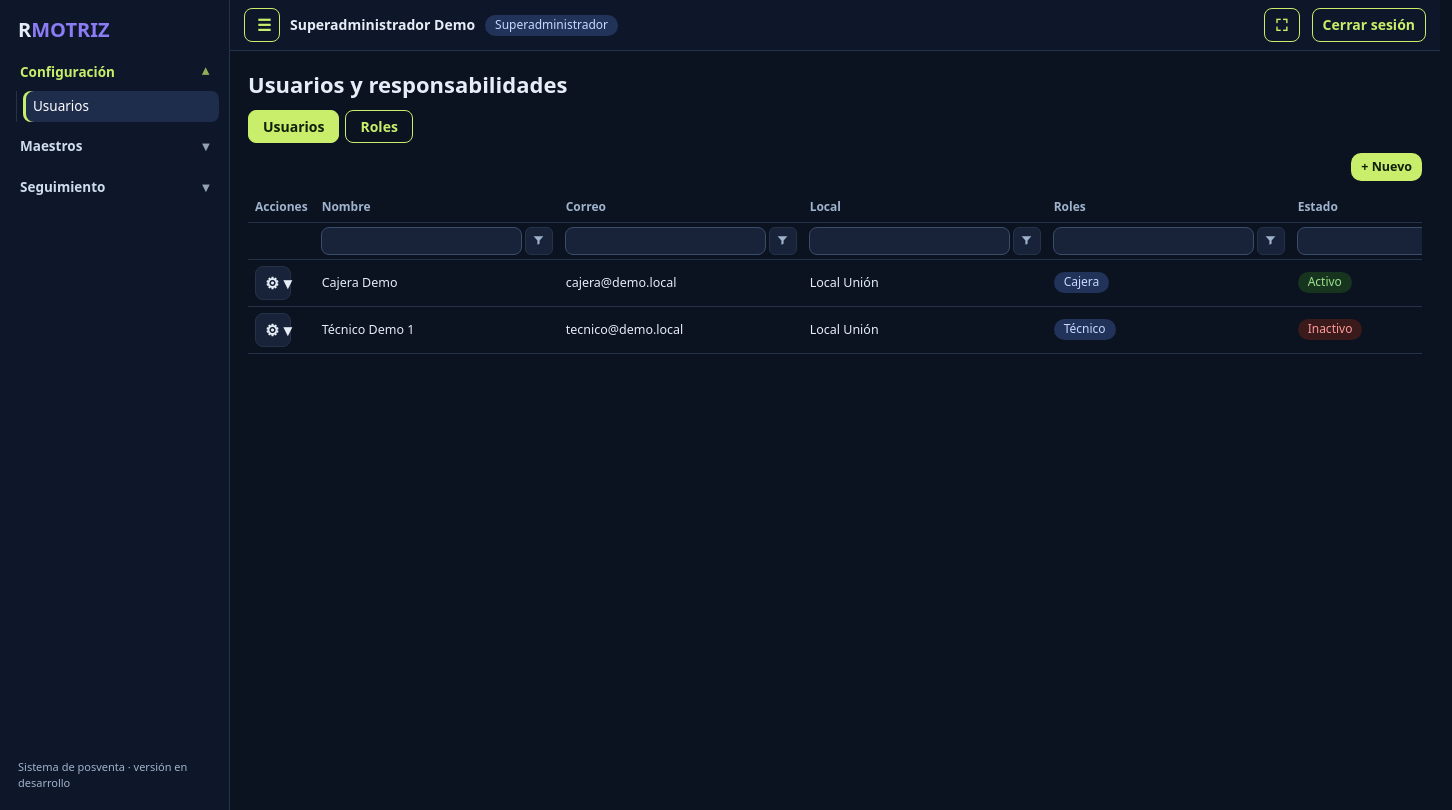
Test: las acciones de la fila van en un solo botón con lista: Editar, Cambiar contraseña y Eliminar
This screenshot has width=1452, height=810.
Check: the button "Editar" is not shown
Click the button named "Acciones": (273, 283) [255,266,291,300]
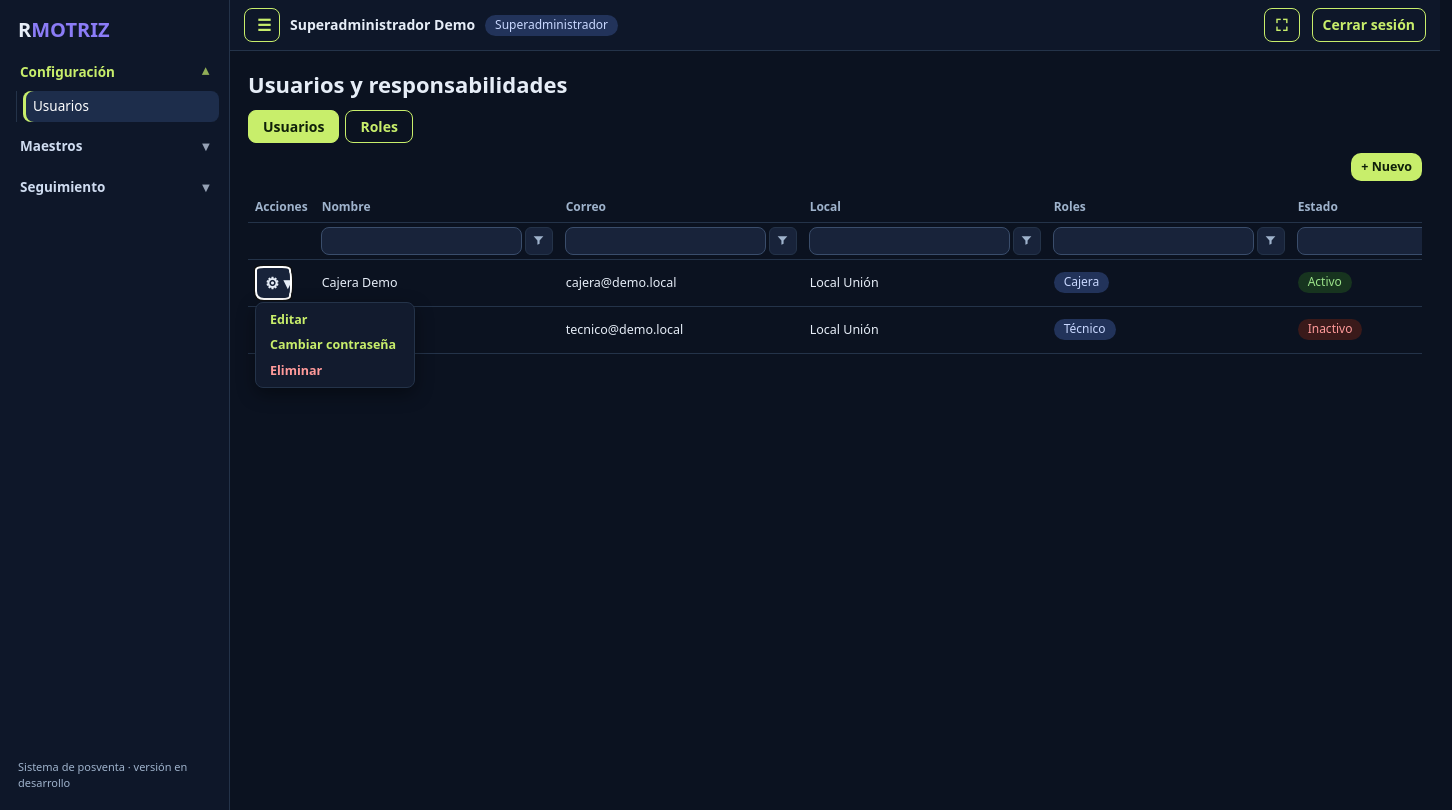
Check: the button "Editar" is shown, box [260,307,406,332]
Check: the button "Cambiar contraseña" is shown, box [260,332,406,358]
Check: the button "Eliminar" is shown, box [260,358,406,383]
